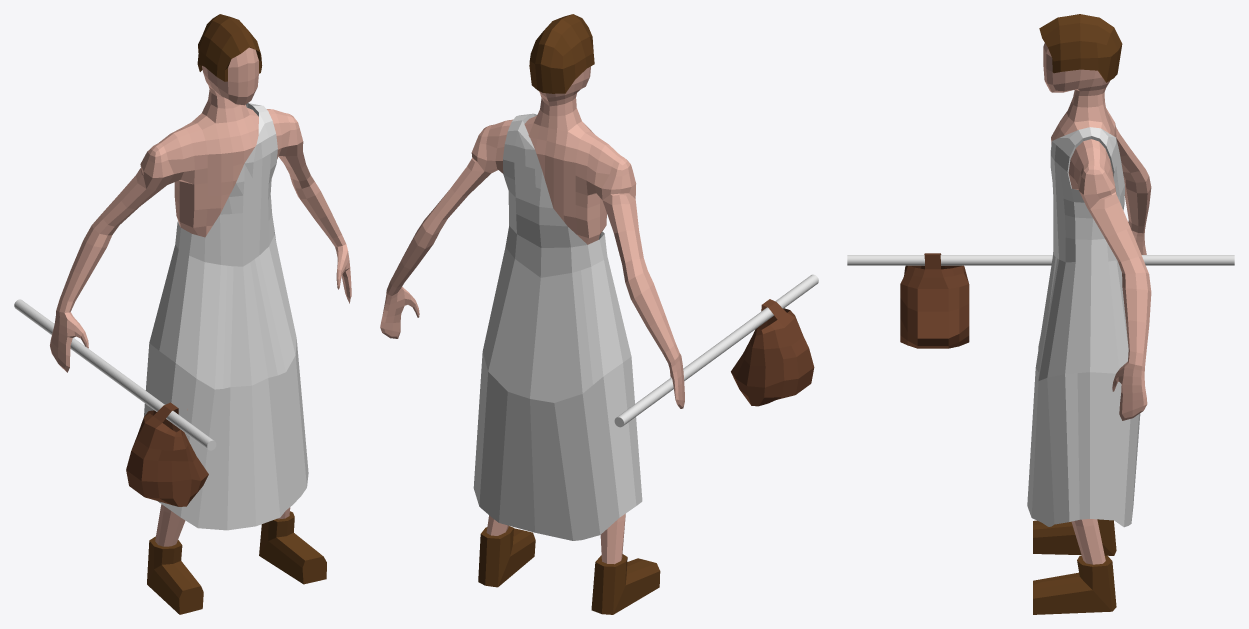
Rendered from Colon.fbx.
The picture shows the model from 3 angles, left to right: view 1: azimuth 30°, elevation 25°; view 2: azimuth 150°, elevation 25°; view 3: azimuth 270°, elevation 25°; orthographic projection.
Parts seen in each view (by area): view 1: Toge, Cube.003, Chaussures, Plane, Cheveux, Cylinder; view 2: Toge, Cube.003, Plane, Chaussures, Cheveux, Cylinder; view 3: Toge, Cube.003, Plane, Chaussures, Cheveux, Cylinder.
Boxes of the visible parts, x1,y1,x2,y2 form: Toge: (144,103,308,530); Cube.003: (50,47,351,546); Chaussures: (147,511,326,614); Plane: (126,402,208,506); Cheveux: (197,14,262,81); Cylinder: (14,299,216,450); Toge: (473,113,642,540); Cube.003: (380,66,684,564); Plane: (731,299,814,406); Chaussures: (478,526,660,614); Cheveux: (529,14,594,93); Cylinder: (614,274,818,427); Toge: (1027,127,1140,527); Cube.003: (1043,43,1151,564); Plane: (900,253,969,348); Chaussures: (1033,519,1116,614); Cheveux: (1039,14,1122,82); Cylinder: (847,255,1234,265).
Size of the model in its own units: 236 by 401 by 250.
